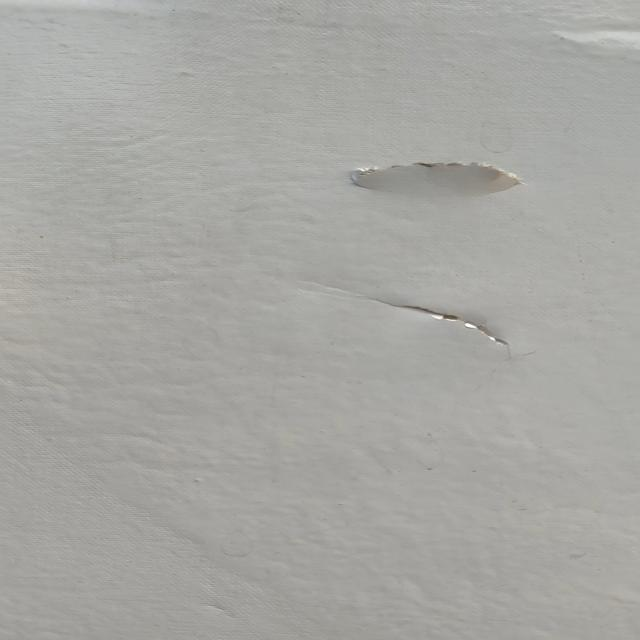Scratches: (356, 285, 519, 360), (343, 138, 533, 199)
